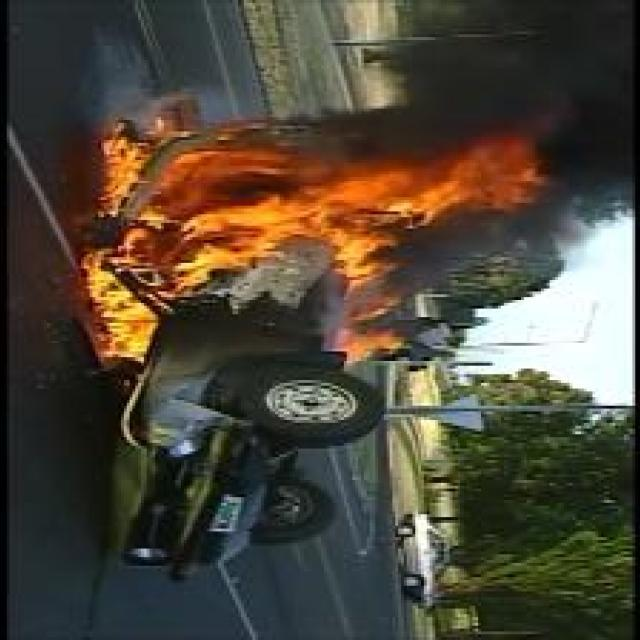Fire: (81, 118, 558, 372)
